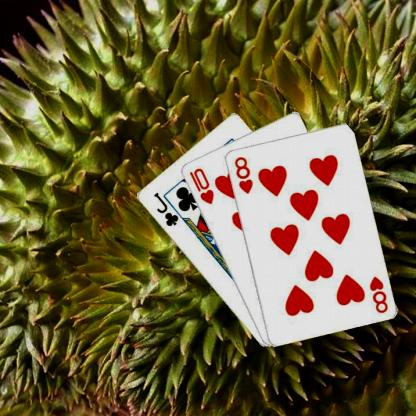10H: (186, 166, 215, 206)
8H: (231, 154, 254, 195), (366, 274, 388, 314)
JC: (151, 190, 180, 228)
